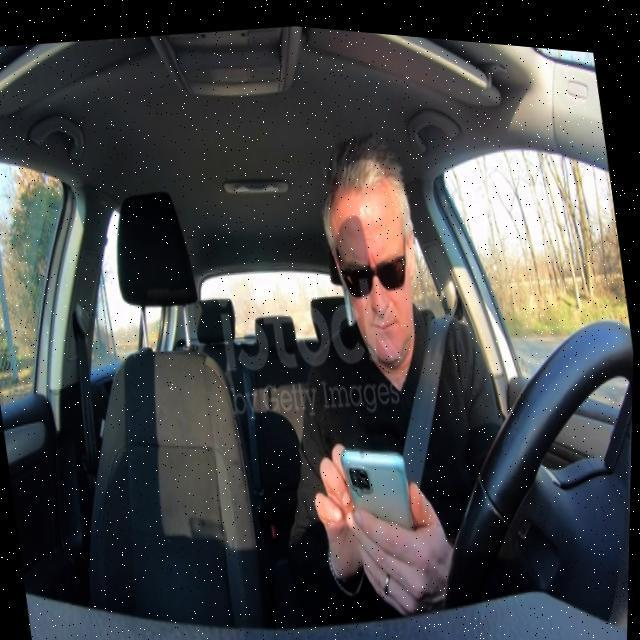PhoneCall: (338, 432, 430, 592)
